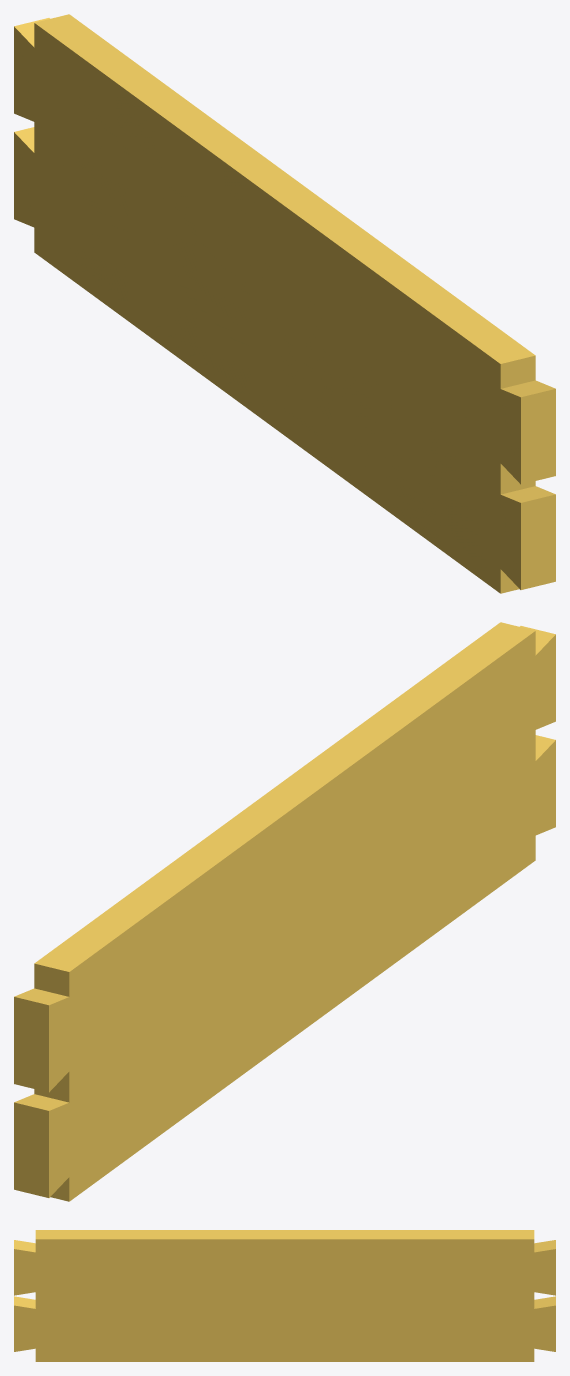
File: original-24.obj
3 views of the same model, one above another, from view 1: azimuth 30°, elevation 25°; view 2: azimuth 150°, elevation 25°; view 3: azimuth 270°, elevation 25° (orthographic). The views are drawn at different scales.
Parts seen in each view (by area): view 1: Group24/mesh31/mesh31-geometry#mesh31-geometry; view 2: Group24/mesh31/mesh31-geometry#mesh31-geometry; view 3: Group24/mesh31/mesh31-geometry#mesh31-geometry.
Part boxes in pixels (x1=…): Group24/mesh31/mesh31-geometry#mesh31-geometry: x1=14, y1=14, x2=555, y2=593; Group24/mesh31/mesh31-geometry#mesh31-geometry: x1=14, y1=622, x2=555, y2=1201; Group24/mesh31/mesh31-geometry#mesh31-geometry: x1=14, y1=1230, x2=555, y2=1361.
Size of the model in its own units: 0.00985 by 0.0616 by 0.2462.
